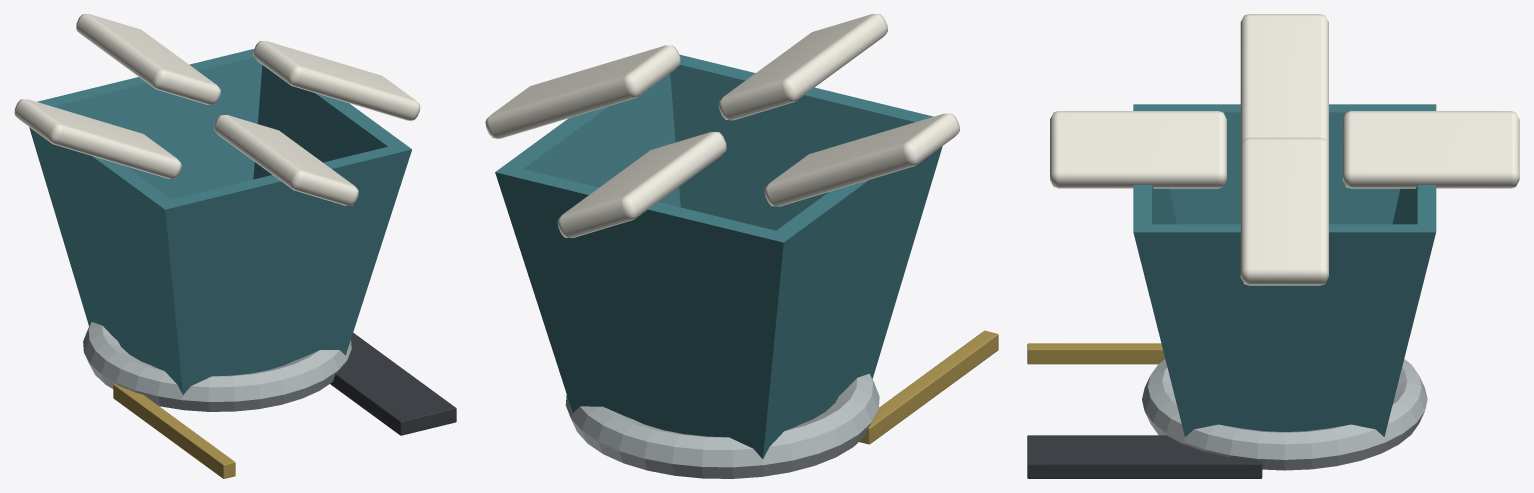
The model's file is pcv_recycle_petal_bin.glb.
The picture shows the model from 3 angles, left to right: view 1: azimuth 30°, elevation 25°; view 2: azimuth 150°, elevation 25°; view 3: azimuth 270°, elevation 25°; orthographic projection. The views are drawn at different scales.
Visible parts, largest first — view 1: pcv_recycle_petal_bin.hollow_recovery_bin, pcv_recycle_petal_bin.removable_foot_ring, pcv_recycle_petal_bin.ordinary_telltale_offset_seam, pcv_recycle_petal_bin.separate_open_petal.002, pcv_recycle_petal_bin.separate_open_petal, pcv_recycle_petal_bin.separate_open_petal.003, pcv_recycle_petal_bin.separate_open_petal.001, pcv_recycle_petal_bin.ordinary_telltale_contact_notch; view 2: pcv_recycle_petal_bin.hollow_recovery_bin, pcv_recycle_petal_bin.removable_foot_ring, pcv_recycle_petal_bin.separate_open_petal, pcv_recycle_petal_bin.separate_open_petal.002, pcv_recycle_petal_bin.separate_open_petal.001, pcv_recycle_petal_bin.separate_open_petal.003, pcv_recycle_petal_bin.ordinary_telltale_contact_notch; view 3: pcv_recycle_petal_bin.hollow_recovery_bin, pcv_recycle_petal_bin.separate_open_petal.001, pcv_recycle_petal_bin.separate_open_petal.003, pcv_recycle_petal_bin.separate_open_petal, pcv_recycle_petal_bin.separate_open_petal.002, pcv_recycle_petal_bin.removable_foot_ring, pcv_recycle_petal_bin.ordinary_telltale_offset_seam, pcv_recycle_petal_bin.ordinary_telltale_contact_notch.
Part boxes in pixels (<box>): pcv_recycle_petal_bin.hollow_recovery_bin: <box>29,49,411,394</box>; pcv_recycle_petal_bin.removable_foot_ring: <box>83,322,351,411</box>; pcv_recycle_petal_bin.ordinary_telltale_offset_seam: <box>330,332,456,435</box>; pcv_recycle_petal_bin.separate_open_petal.002: <box>14,99,181,178</box>; pcv_recycle_petal_bin.separate_open_petal: <box>253,41,420,120</box>; pcv_recycle_petal_bin.separate_open_petal.003: <box>214,115,358,205</box>; pcv_recycle_petal_bin.separate_open_petal.001: <box>76,14,220,104</box>; pcv_recycle_petal_bin.ordinary_telltale_contact_notch: <box>113,384,235,478</box>; pcv_recycle_petal_bin.hollow_recovery_bin: <box>495,54,942,459</box>; pcv_recycle_petal_bin.removable_foot_ring: <box>565,373,879,478</box>; pcv_recycle_petal_bin.separate_open_petal: <box>485,45,680,138</box>; pcv_recycle_petal_bin.separate_open_petal.002: <box>764,113,959,206</box>; pcv_recycle_petal_bin.separate_open_petal.001: <box>557,132,726,237</box>; pcv_recycle_petal_bin.separate_open_petal.003: <box>718,14,887,120</box>; pcv_recycle_petal_bin.ordinary_telltale_contact_notch: <box>859,330,998,444</box>; pcv_recycle_petal_bin.hollow_recovery_bin: <box>1133,104,1436,436</box>; pcv_recycle_petal_bin.separate_open_petal.001: <box>1342,111,1519,188</box>; pcv_recycle_petal_bin.separate_open_petal.003: <box>1050,111,1226,188</box>; pcv_recycle_petal_bin.separate_open_petal: <box>1240,137,1328,285</box>; pcv_recycle_petal_bin.separate_open_petal.002: <box>1240,14,1328,145</box>; pcv_recycle_petal_bin.removable_foot_ring: <box>1142,359,1427,470</box>; pcv_recycle_petal_bin.ordinary_telltale_offset_seam: <box>1027,435,1262,478</box>; pcv_recycle_petal_bin.ordinary_telltale_contact_notch: <box>1027,343,1165,364</box>.
Bounding box in the file's own units: 1.33 × 1.01 × 1.45.
